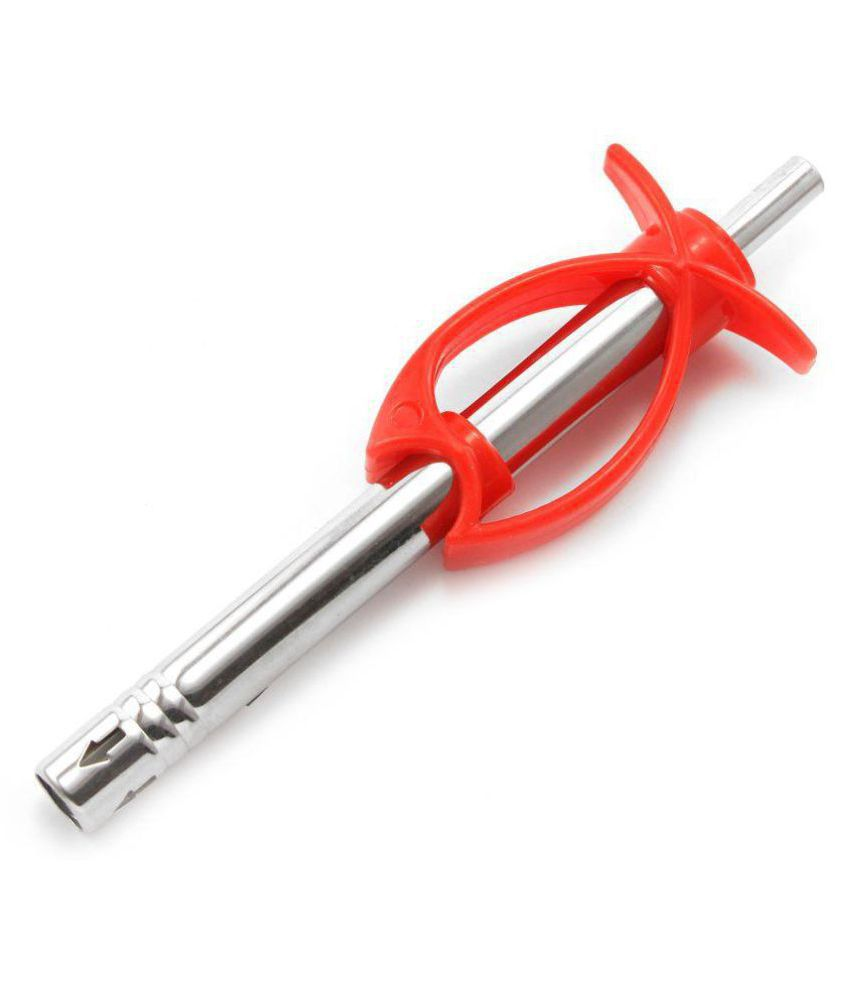Nonrec_Other: (20, 145, 824, 859)
